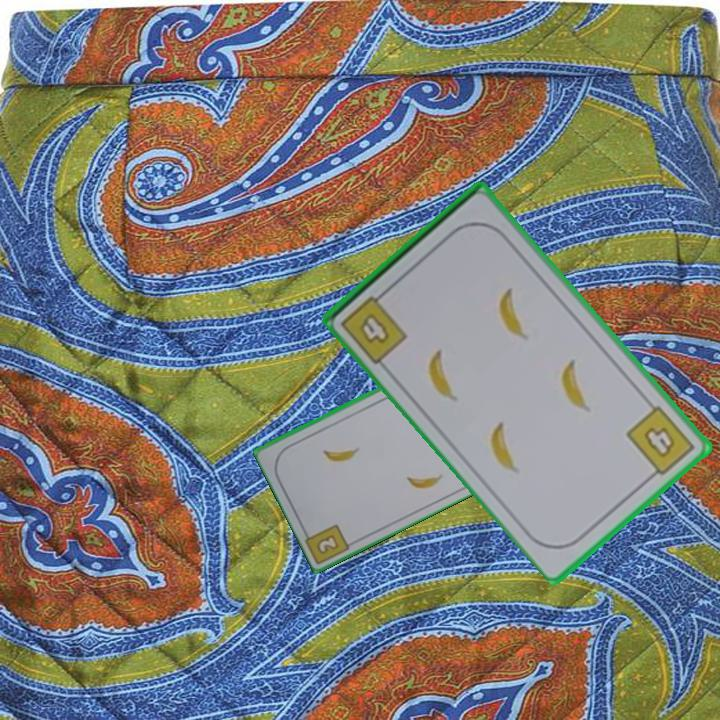2b: (313, 531, 342, 557)
4b: (622, 402, 698, 483), (337, 285, 408, 367)
